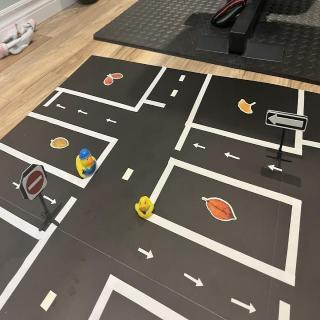duck_regular: (136, 195, 156, 223)
duck_specialty: (77, 148, 100, 181)
road_oneway: (231, 297, 259, 316), (184, 273, 206, 291), (138, 248, 156, 262), (223, 150, 243, 162), (44, 195, 59, 209), (192, 142, 208, 152), (12, 180, 24, 192), (78, 108, 90, 118), (56, 103, 68, 112), (107, 118, 120, 126)
sign_noentry: (23, 164, 51, 204)
sign_oneway_left: (267, 111, 309, 133)
